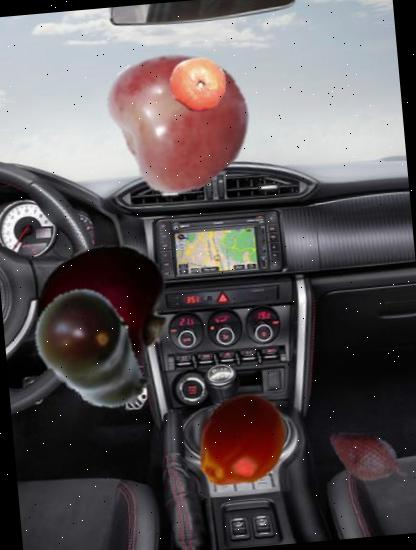Cherry: (102, 39, 256, 193), (29, 236, 177, 384)
Clementine: (166, 54, 230, 118)
Eggplant: (18, 278, 168, 428)
Salak: (321, 410, 416, 505)
Tomato: (188, 387, 297, 496)
